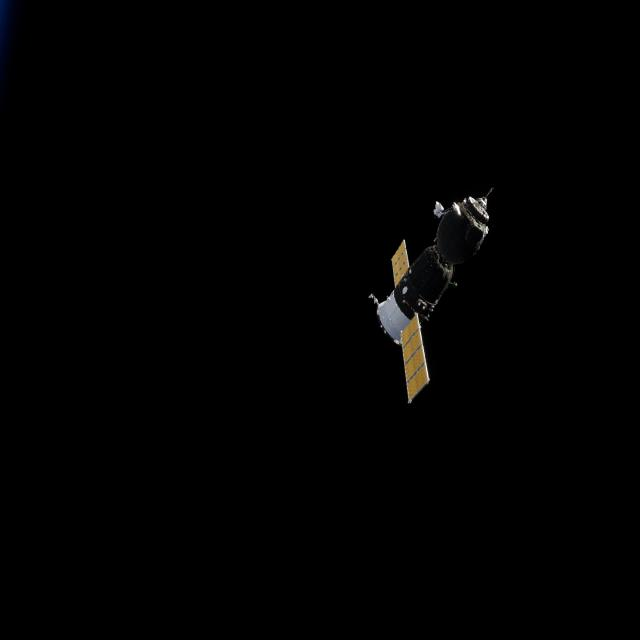Satellites revolving around earth: (367, 184, 495, 406)
